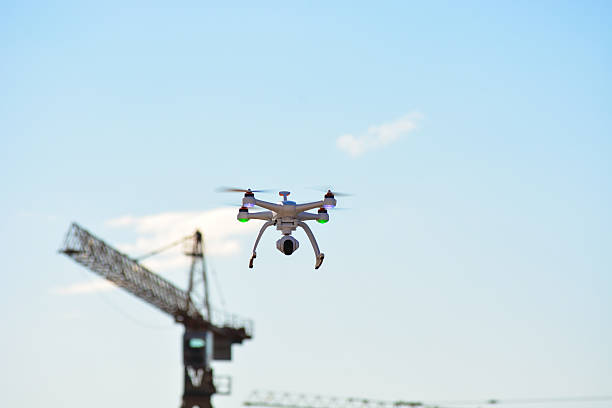Drone: (212, 177, 355, 279)
